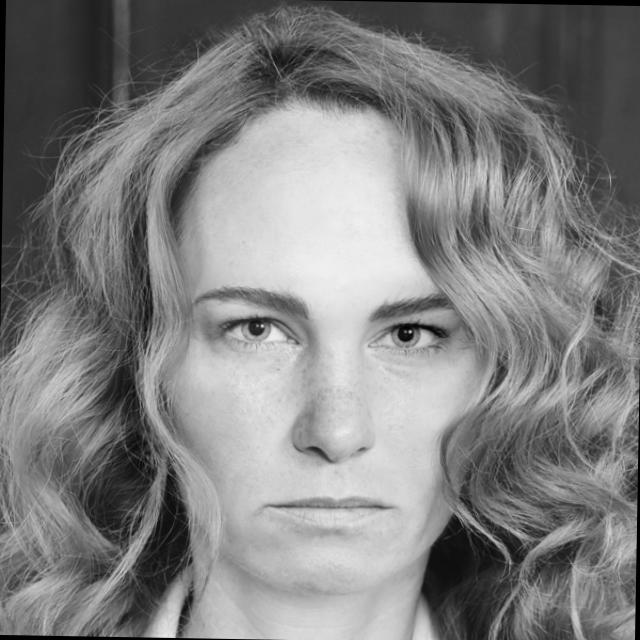face: (56, 37, 602, 625)
